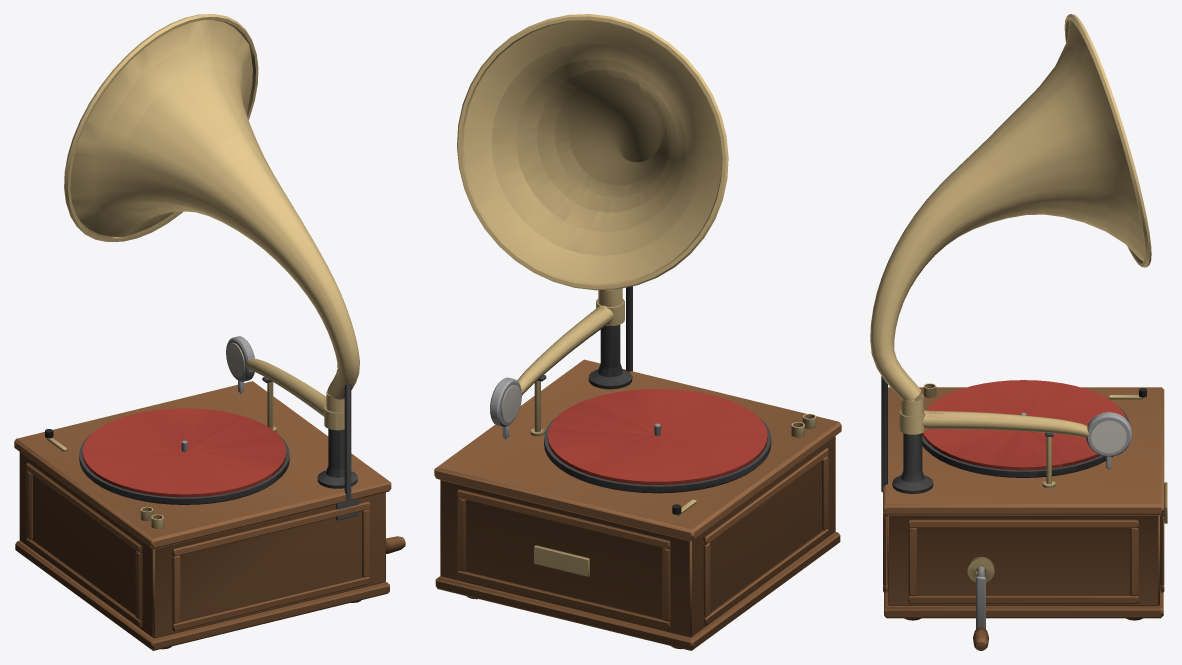
File: gramophone.glb
The picture shows the model from 3 angles, left to right: view 1: azimuth 30°, elevation 25°; view 2: azimuth 150°, elevation 25°; view 3: azimuth 270°, elevation 25°; orthographic projection. The views are drawn at different scales.
Parts seen in each view (by area): view 1: case, horn, platter, tonearm; view 2: case, horn, platter, tonearm; view 3: case, horn, platter, tonearm, crank.
Part boxes in pixels (x1,y1,x2,y2): case: (14, 377, 391, 650); horn: (64, 14, 359, 412); platter: (79, 408, 289, 504); tonearm: (226, 336, 344, 430); case: (434, 286, 841, 650); horn: (457, 14, 728, 306); platter: (544, 389, 771, 493); tonearm: (490, 299, 624, 440); case: (881, 376, 1167, 620); horn: (870, 14, 1151, 416); platter: (922, 380, 1129, 477); tonearm: (899, 409, 1131, 469); crank: (973, 566, 988, 650).
Size of the model in its own units: 0.412 by 0.7065 by 0.349.
